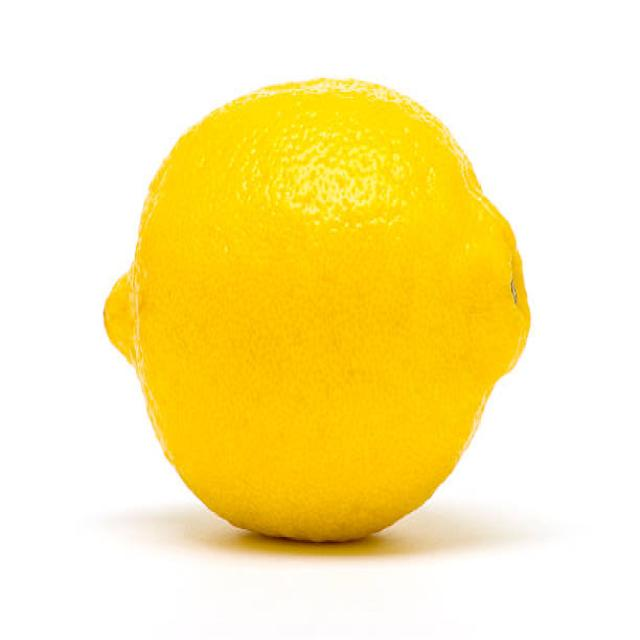Lemon: (100, 78, 531, 545)
